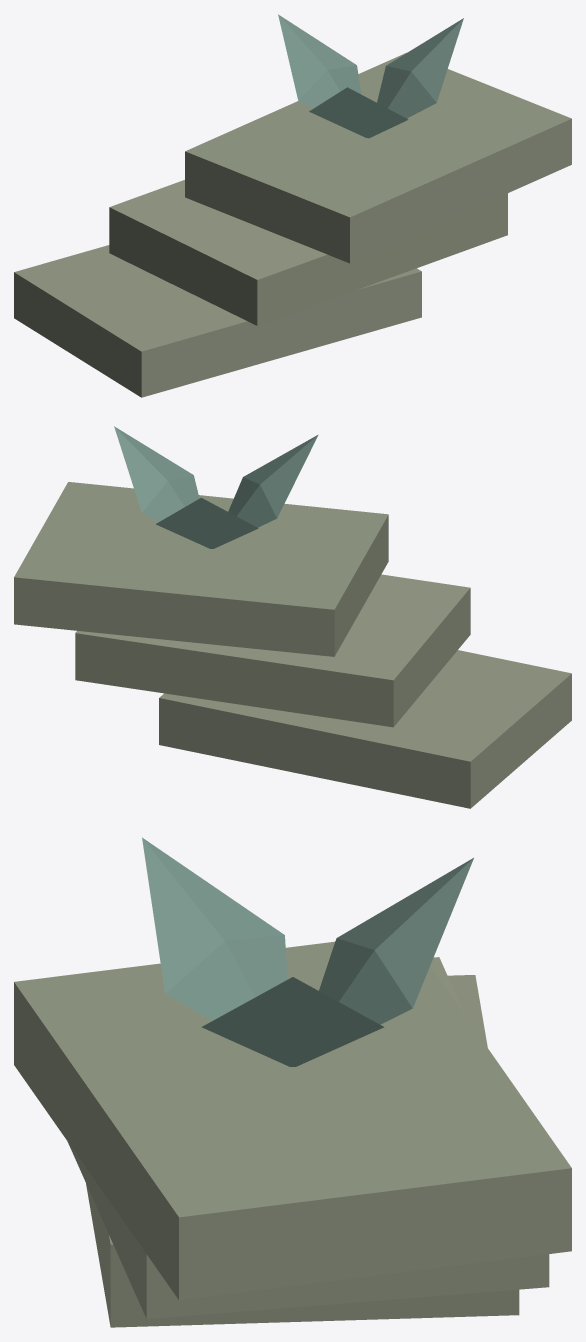
File: map-exclusive-v3__ruins_12.glb
The picture shows the model from 3 angles, top to bottom: view 1: azimuth 30°, elevation 25°; view 2: azimuth 150°, elevation 25°; view 3: azimuth 270°, elevation 25°; orthographic projection. The views are drawn at different scales.
Visible parts, largest first — view 1: ruins_12; view 2: ruins_12; view 3: ruins_12.
Part boxes in pixels (x1,y1,x2,y2): ruins_12: (14, 14, 571, 397); ruins_12: (14, 426, 571, 808); ruins_12: (14, 837, 571, 1327).
Bounding box in the file's own units: 1.84 × 0.885 × 1.03.
